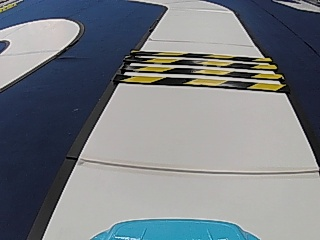bump: (113, 47, 287, 96)
